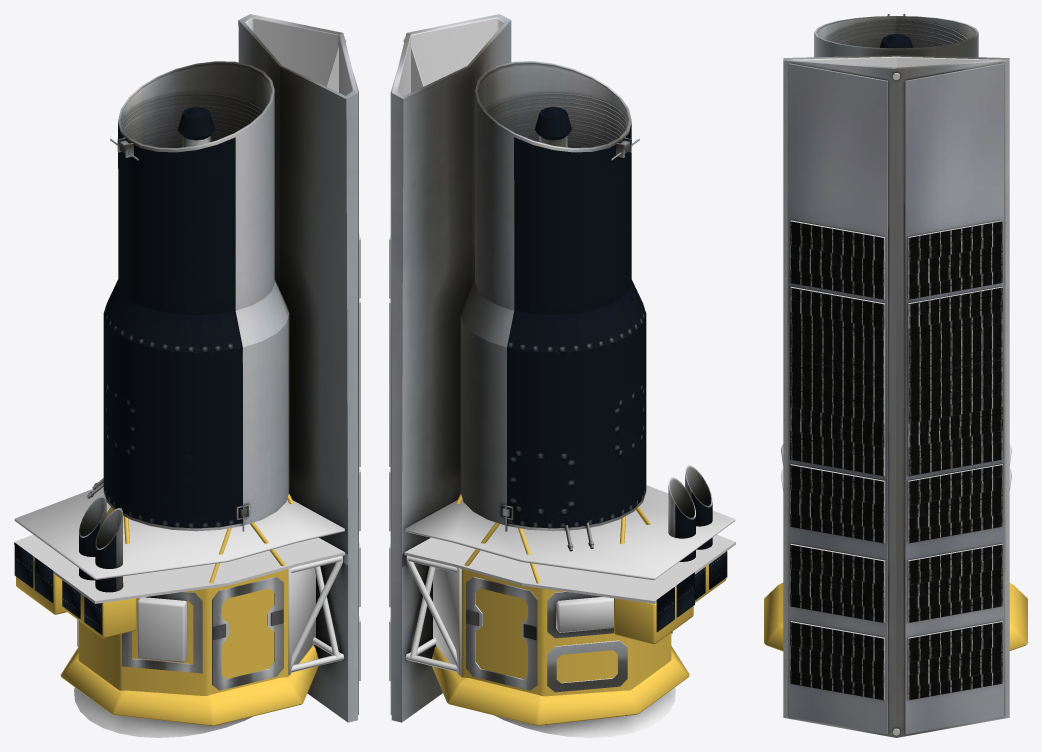
File: spitzer.glb
3 views of the same model, side by side, from view 1: azimuth 30°, elevation 25°; view 2: azimuth 150°, elevation 25°; view 3: azimuth 270°, elevation 25° (orthographic). The views are drawn at different scales.
Visible parts, largest first — view 1: BUS, gold_foil, silver_foil, array_gold_cylinders, BUS.001; view 2: BUS, gold_foil, silver_foil, array_gold_cylinders, BUS.001; view 3: BUS, array_gold_cylinders, gold_foil.
Part boxes in pixels (<box>): BUS: <box>14,14,358,722</box>; gold_foil: <box>16,493,318,725</box>; silver_foil: <box>14,487,344,675</box>; array_gold_cylinders: <box>14,17,360,680</box>; BUS.001: <box>74,687,252,737</box>; BUS: <box>390,14,727,722</box>; gold_foil: <box>432,493,726,725</box>; silver_foil: <box>405,485,735,675</box>; array_gold_cylinders: <box>389,17,735,680</box>; BUS.001: <box>495,687,675,737</box>; BUS: <box>783,14,1009,737</box>; array_gold_cylinders: <box>781,56,1011,735</box>; gold_foil: <box>764,583,1027,651</box>.
Size of what is drawn, in the model's own units: 3.62 by 7.88 by 2.71.
6 materials, 3 textured.
